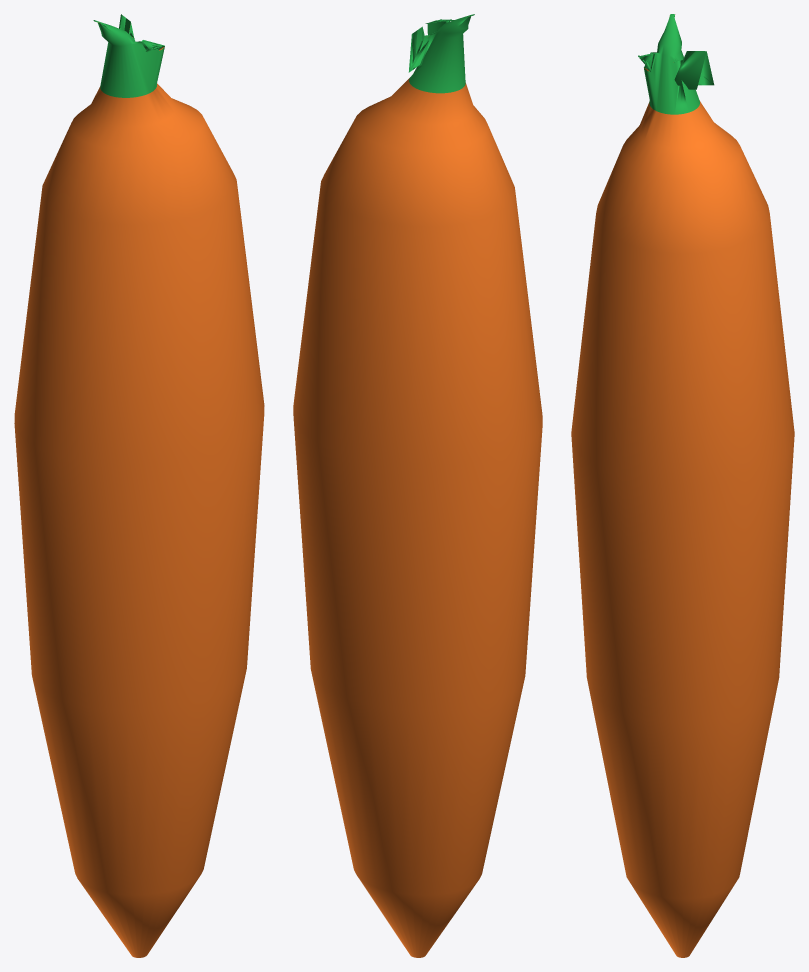
Rendered from Carrot.fbx.
3 views of the same model, side by side, from view 1: azimuth 30°, elevation 25°; view 2: azimuth 150°, elevation 25°; view 3: azimuth 270°, elevation 25° (orthographic). The views are drawn at different scales.
Parts seen in each view (by area): view 1: Cylinder; view 2: Cylinder; view 3: Cylinder.
Boxes of the visible parts, <box> form: Cylinder: <box>14,14,264,957</box>; Cylinder: <box>293,14,542,957</box>; Cylinder: <box>571,14,794,957</box>.
Size of the model in its own units: 9.72 by 39.64 by 8.76.
